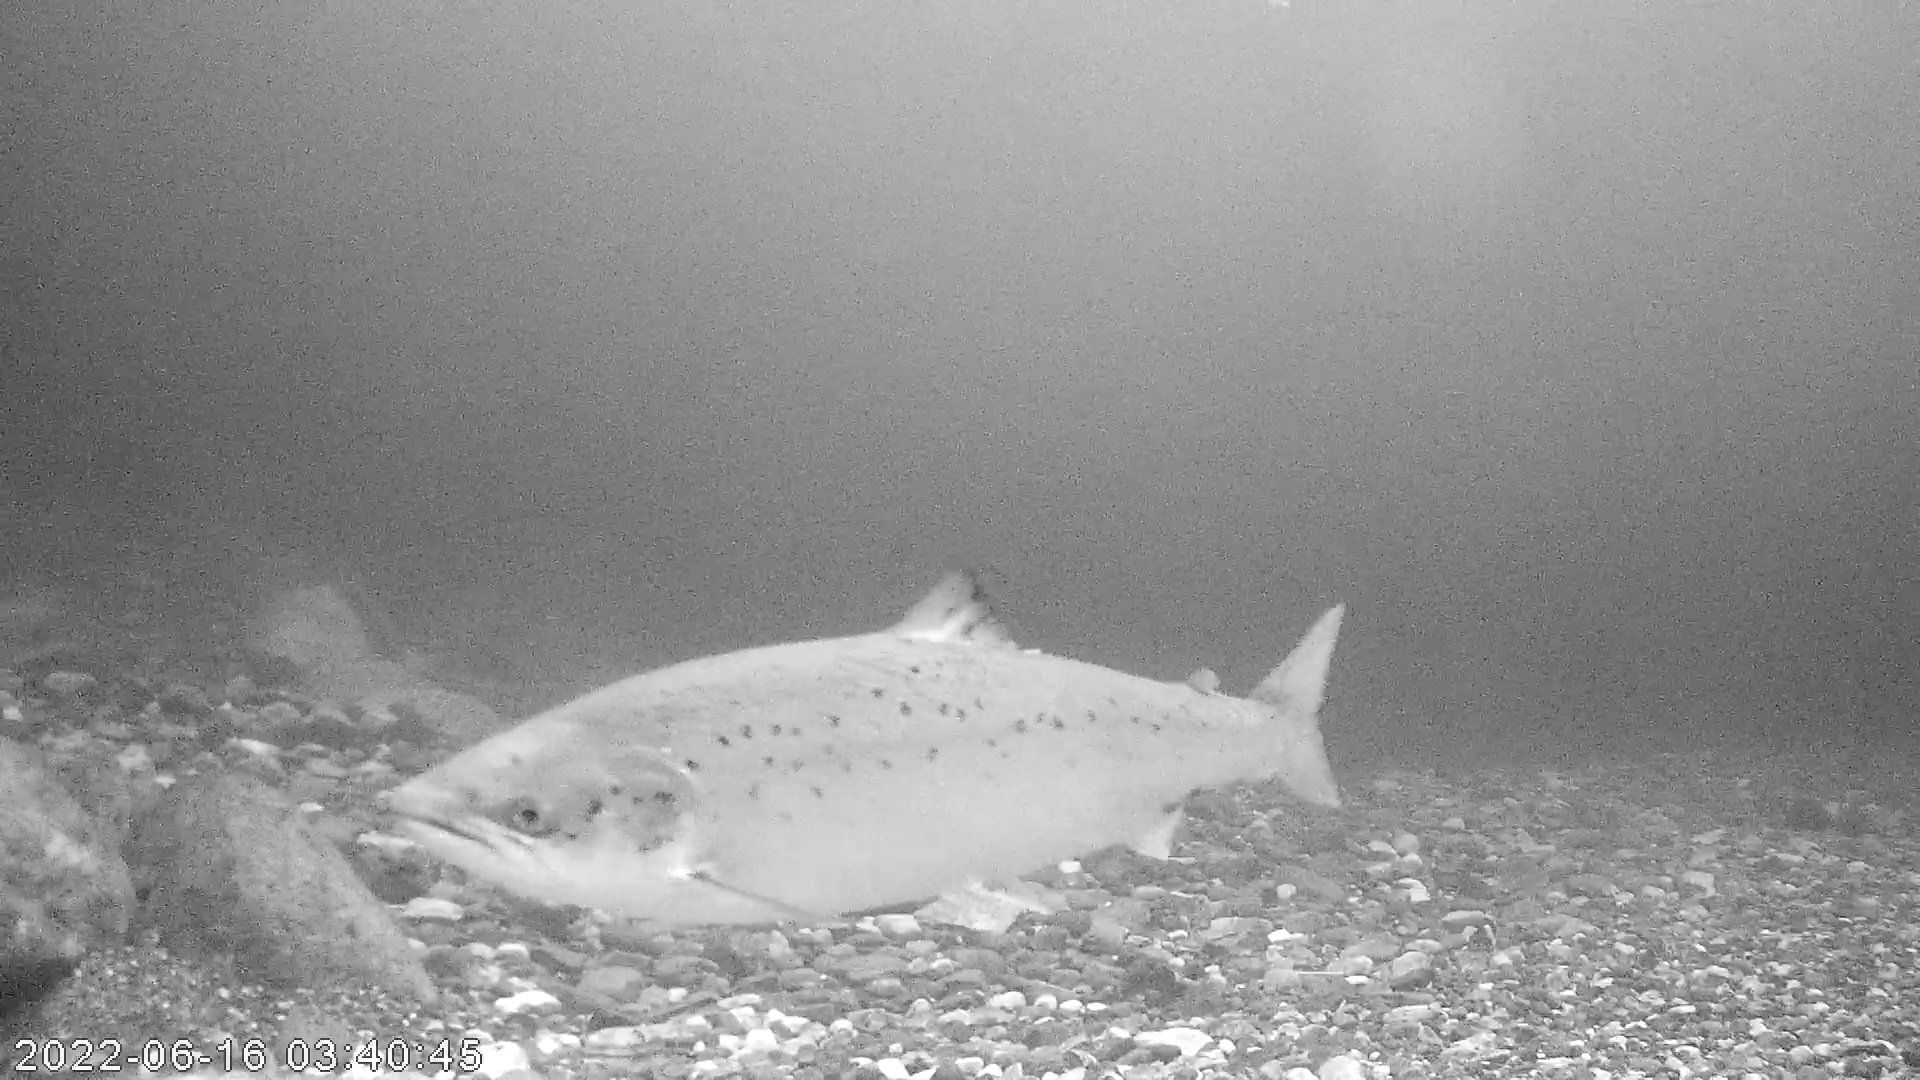salmon: (378, 560, 1353, 927)
